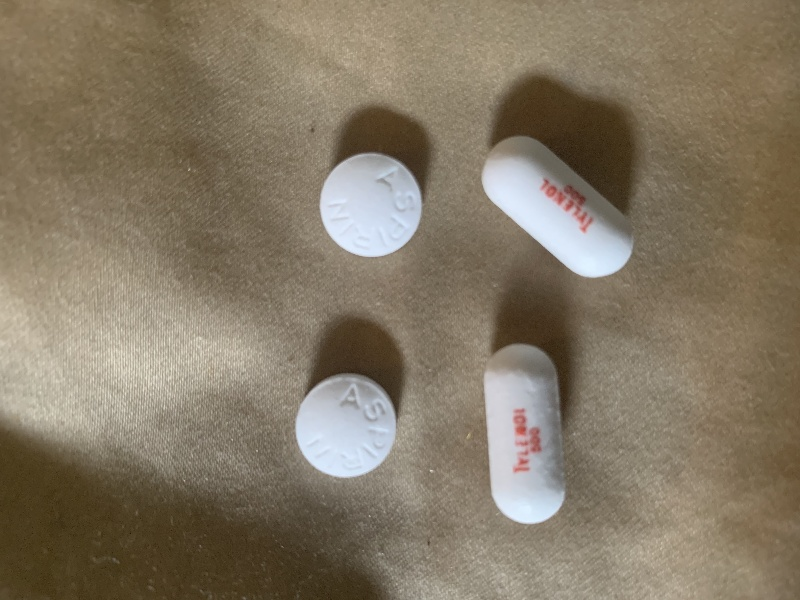Aspirin: (315, 147, 423, 260), (290, 371, 398, 482)
Tylenol: (476, 128, 643, 281), (479, 340, 576, 529)
